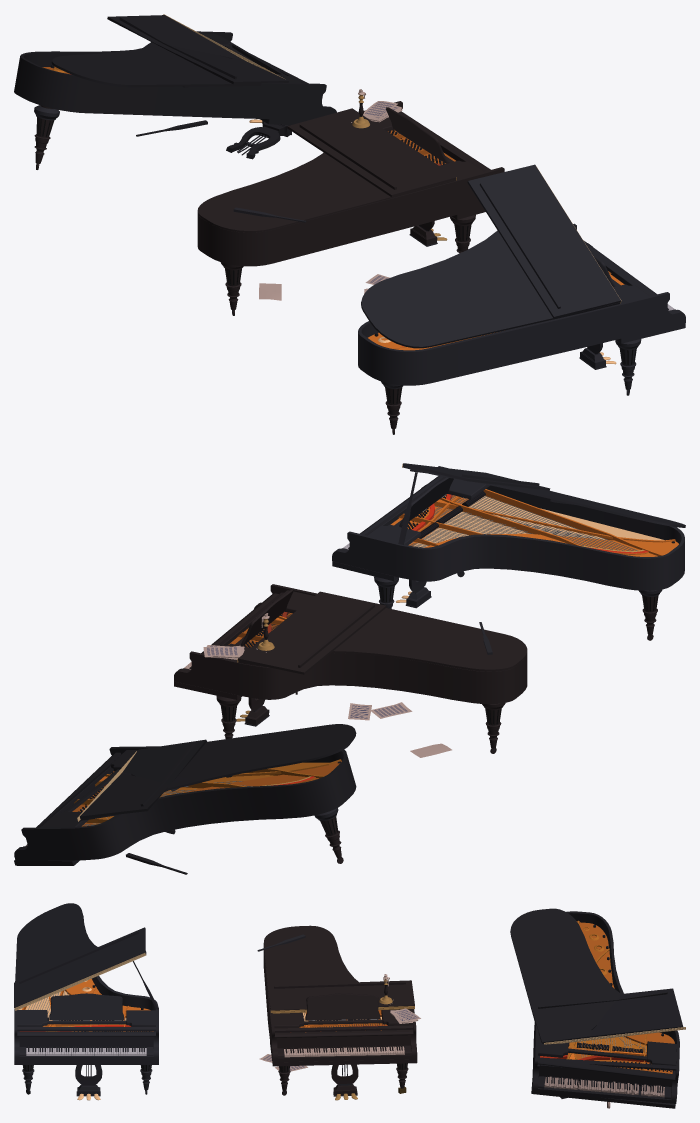
The model's file is grand_piano__hw.glb.
3 renders of one model, top to bottom at view 1: azimuth 30°, elevation 25°; view 2: azimuth 150°, elevation 25°; view 3: azimuth 270°, elevation 25°, orthographic. The views are drawn at different scales.
Parts seen in each view (by area): view 1: Cube.011_115, Cube.064_156, Cube.003_65, Cube.029_19, Cube.025_125, Cube.111_45, Cube.030_127, Cylinder.015_170, Cube.056_20, Cube.031_128; view 2: Cube.003_65, Cube.064_156, Cube.029_19, Cube.025_125, Cube.111_45, Cube.016_118, Cube.026_123, Cube.011_115, Cube.002_103, Cube.009_69, Cube.006_105, Cube.092_38 (+8 smaller); view 3: Cube.111_45, Cube.011_115, Cube.064_156, Cube.029_19, Cube.003_65, Cube.025_125, Cube.030_127, Cube.001_68, Cube.092_38, Cube.144_60, Cube.073_23, Cube.009_69 (+27 smaller).
Boxes of the visible parts, <box> form: Cube.011_115: <box>361,164,620,348</box>; Cube.064_156: <box>197,108,456,232</box>; Cube.003_65: <box>358,223,685,385</box>; Cube.029_19: <box>14,31,336,120</box>; Cube.025_125: <box>197,101,504,266</box>; Cube.111_45: <box>51,15,288,87</box>; Cube.030_127: <box>386,107,448,163</box>; Cylinder.015_170: <box>225,224,471,310</box>; Cube.056_20: <box>226,127,280,159</box>; Cube.031_128: <box>372,117,484,179</box>; Cube.003_65: <box>332,466,684,590</box>; Cube.064_156: <box>238,591,527,674</box>; Cube.029_19: <box>14,746,356,861</box>; Cube.025_125: <box>174,584,527,704</box>; Cube.111_45: <box>79,724,356,820</box>; Cube.016_118: <box>413,496,664,547</box>; Cube.026_123: <box>409,495,637,551</box>; Cube.011_115: <box>402,463,685,527</box>; Cube.002_103: <box>390,494,678,556</box>; Cube.009_69: <box>367,478,489,545</box>; Cube.006_105: <box>483,489,663,556</box>; Cube.092_38: <box>72,761,341,826</box>; Cube.111_45: <box>510,908,683,1043</box>; Cube.011_115: <box>14,903,146,1007</box>; Cube.064_156: <box>264,925,414,1011</box>; Cube.029_19: <box>532,911,679,1103</box>; Cube.003_65: <box>14,967,158,1060</box>; Cube.025_125: <box>263,943,417,1062</box>; Cube.030_127: <box>305,993,380,1020</box>; Cube.001_68: <box>49,993,124,1019</box>; Cube.092_38: <box>541,921,674,1073</box>; Cube.144_60: <box>544,1076,664,1108</box>; Cube.073_23: <box>538,1034,676,1065</box>; Cube.009_69: <box>17,1010,155,1026</box>.
Size of the model in its own units: 6.91 by 4 by 17.81.
